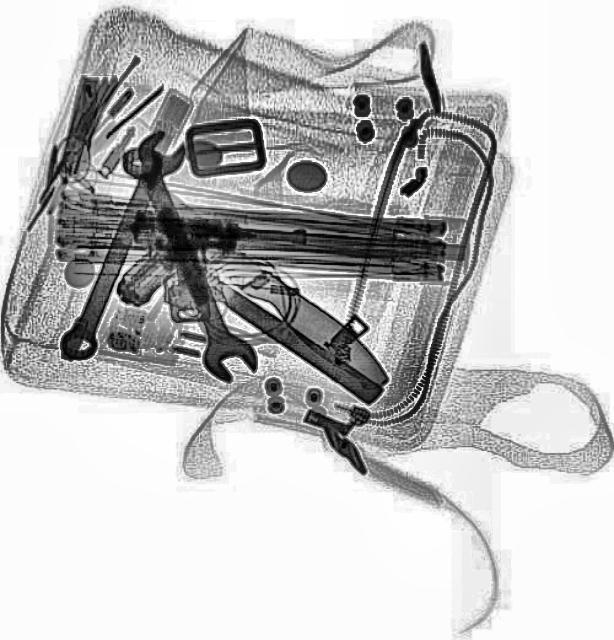Gun: (129, 206, 309, 304)
Knife: (132, 168, 394, 398), (138, 226, 380, 404)
Wrench: (110, 137, 260, 386), (44, 122, 192, 364)
